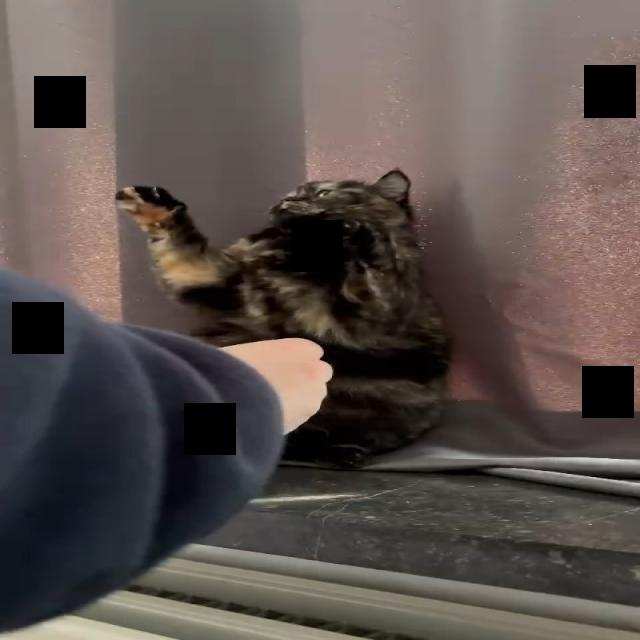authorized: (113, 168, 455, 470)
